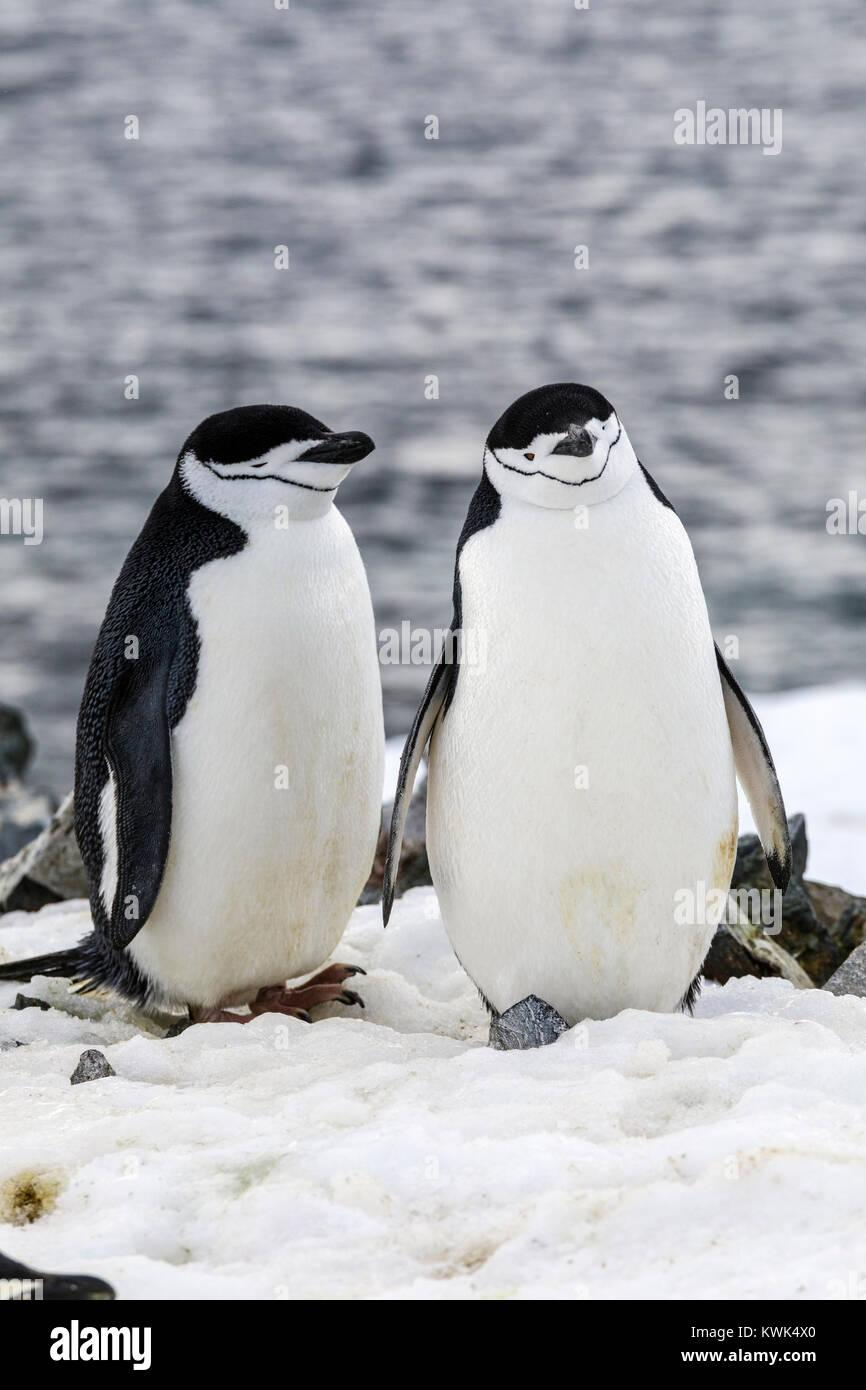chinstrap: (353, 344, 835, 1153), (0, 304, 433, 1134)
